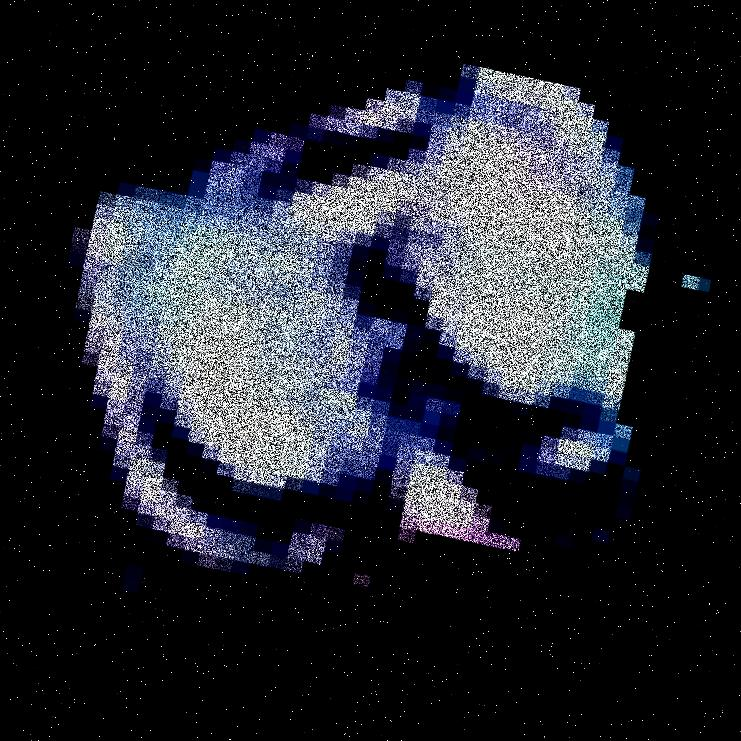Oculos: (158, 0, 545, 740)
